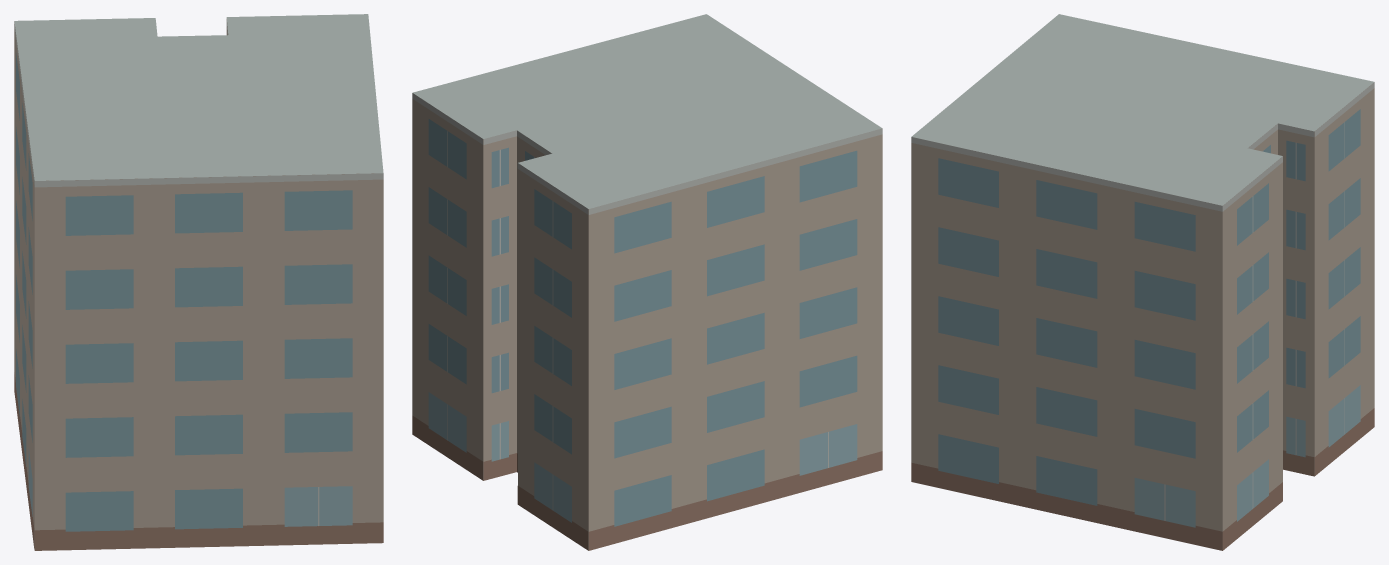
File: survey-upis-32526024.glb
The picture shows the model from 3 angles, left to right: view 1: azimuth 30°, elevation 25°; view 2: azimuth 150°, elevation 25°; view 3: azimuth 270°, elevation 25°; orthographic projection. The views are drawn at different scales.
Parts seen in each view (by area): view 1: survey-upis-32526024.tmp; view 2: survey-upis-32526024.tmp; view 3: survey-upis-32526024.tmp.
Boxes of the visible parts, x1,y1,x2,y2 form: survey-upis-32526024.tmp: (14, 14, 383, 550); survey-upis-32526024.tmp: (412, 14, 882, 550); survey-upis-32526024.tmp: (911, 14, 1374, 550).
Size of the model in its own units: 16.82 by 14.1 by 17.17.
